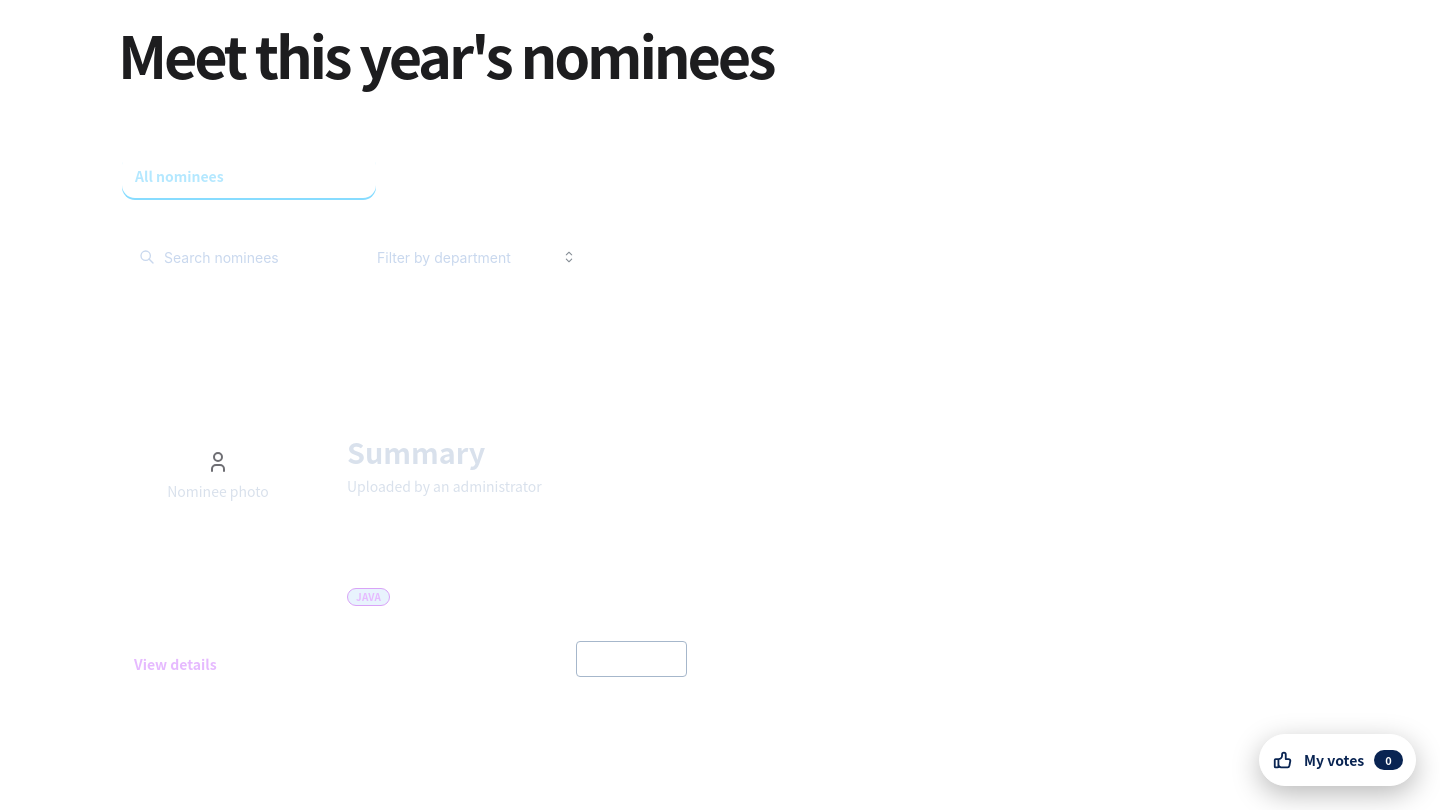
ProjectShowcase › keeps nomination details open when voting fails: At most 2 votes may be cast for projects from your department (BD/DPA).
The image size is (1440, 810).
Click the button "View details" at (175, 664), box [129, 651, 222, 677]
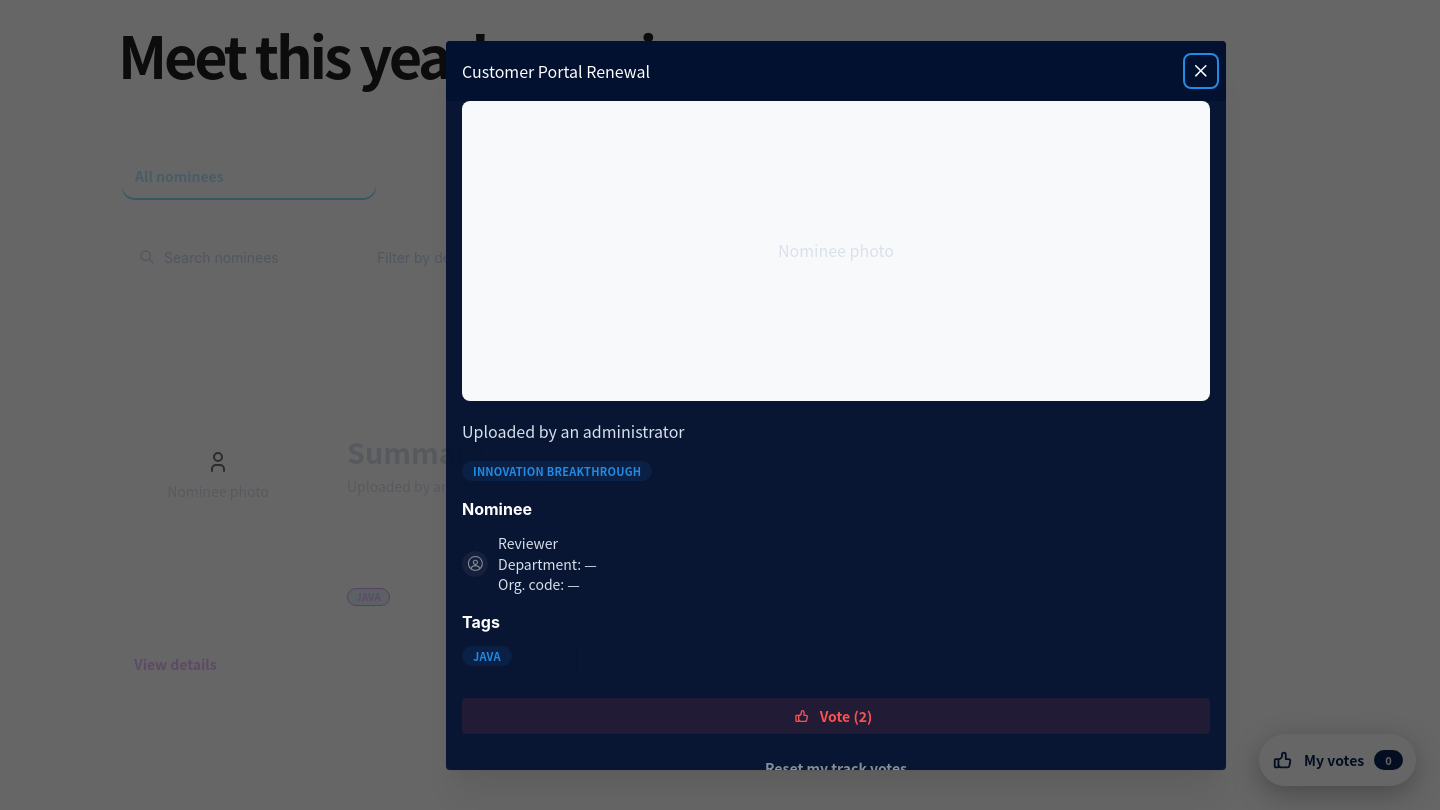
Click the button "Vote (2)" at (836, 716), box [462, 698, 1210, 734]
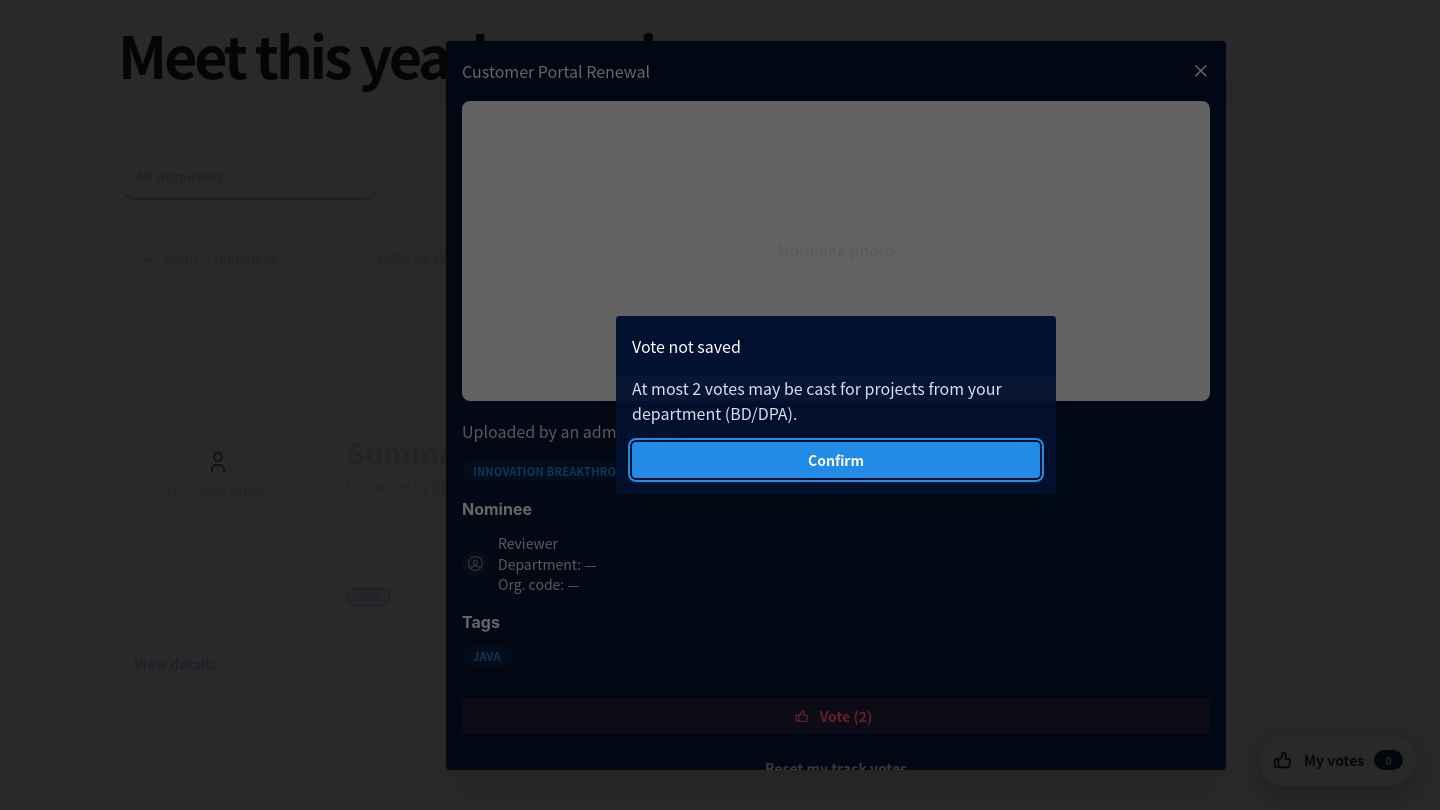
expect the message shows "At most 2 votes": met, box [632, 376, 1002, 425]
Press Escape
expect the dialog "Vote not saved" is shown: met, box [616, 316, 1056, 494]
Click the button "Confirm" at (836, 460), box [632, 442, 1040, 478]
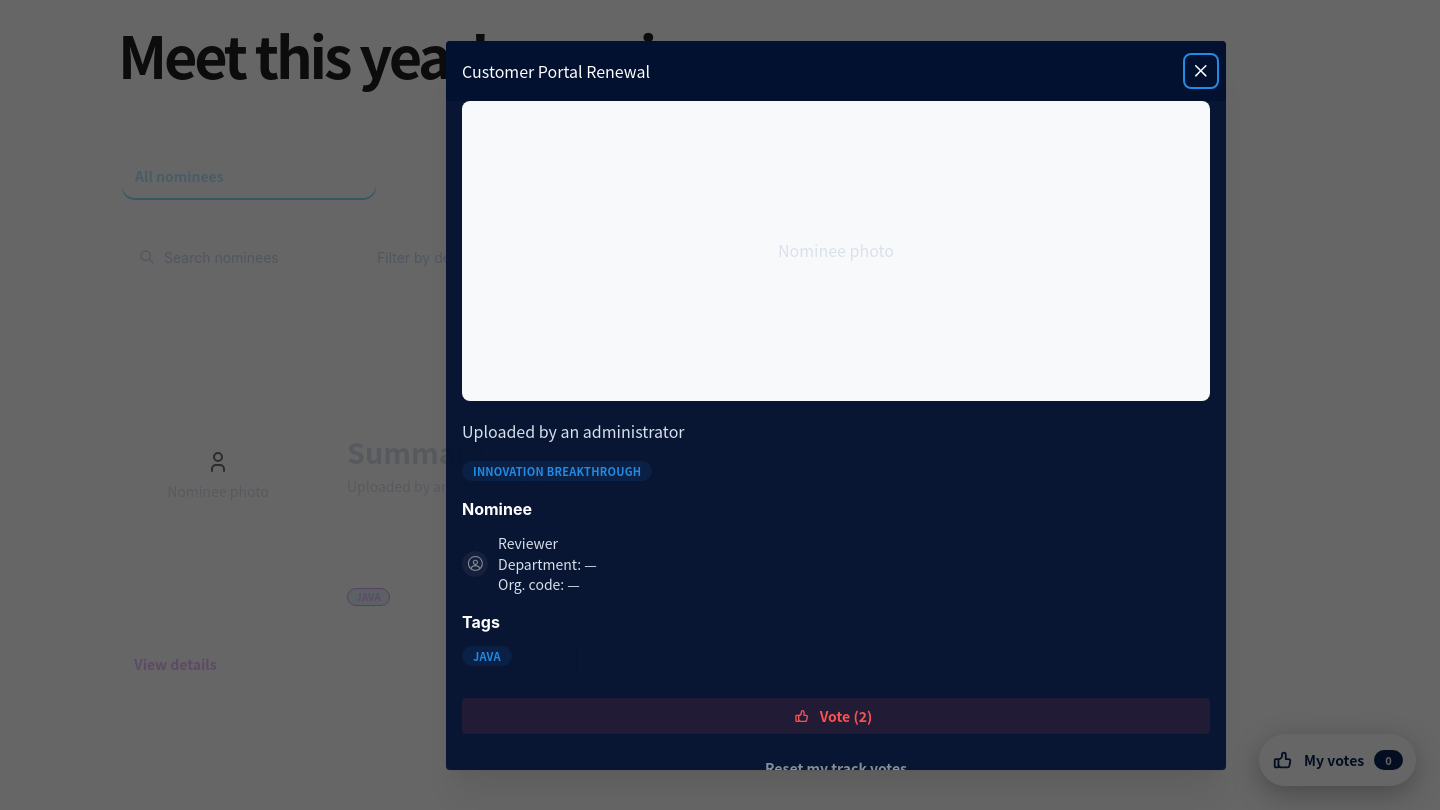
expect the dialog "Customer Portal Renewal" is shown: met, box [446, 40, 1226, 770]
expect the button "Vote (2)" is enabled: met, box [462, 698, 1210, 734]
expect the heading "Vote not saved" is gone: met
